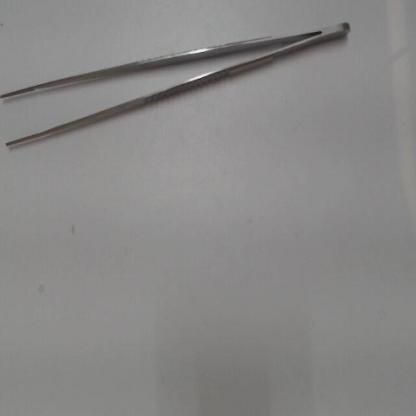DeBakey Dissector: (1, 10, 370, 166)
